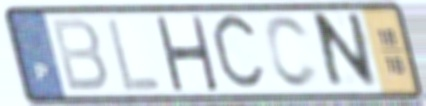B: (48, 16, 111, 94)
C: (208, 9, 269, 96), (261, 13, 323, 92)
H: (151, 14, 221, 93)
L: (103, 14, 165, 94)
N: (313, 10, 380, 94)
